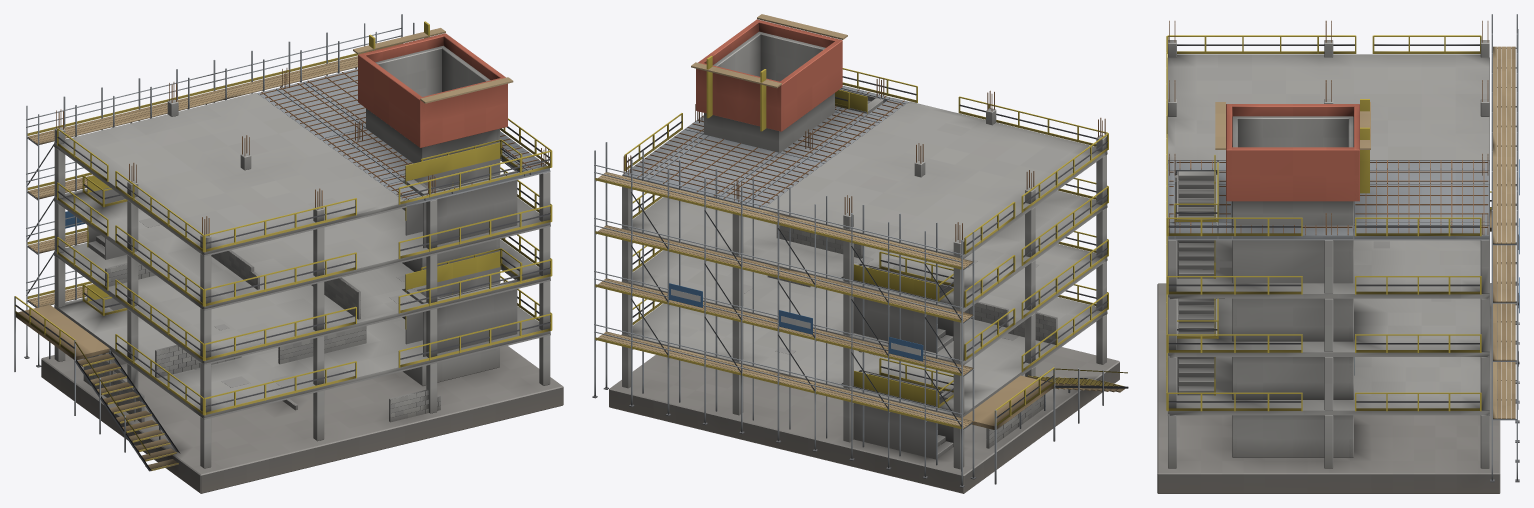
File: tower.glb
3 views of the same model, side by side, from view 1: azimuth 30°, elevation 25°; view 2: azimuth 150°, elevation 25°; view 3: azimuth 270°, elevation 25° (orthographic). The views are drawn at different scales.
Parts seen in each view (by area): view 1: tower_1, tower_0, tower_2; view 2: tower_1, tower_2, tower_0; view 3: tower_1, tower_2, tower_0.
Boxes of the visible parts, x1,y1,x2,y2 form: tower_1: (14, 33, 552, 487); tower_0: (14, 14, 563, 493); tower_2: (26, 30, 562, 493); tower_1: (594, 19, 1123, 488); tower_2: (594, 52, 1119, 493); tower_0: (592, 14, 1128, 493); tower_1: (1157, 35, 1519, 493); tower_2: (1157, 29, 1518, 493); tower_0: (1157, 14, 1519, 493).
Size of the model in its own units: 27.77 by 21.3 by 20.28.
